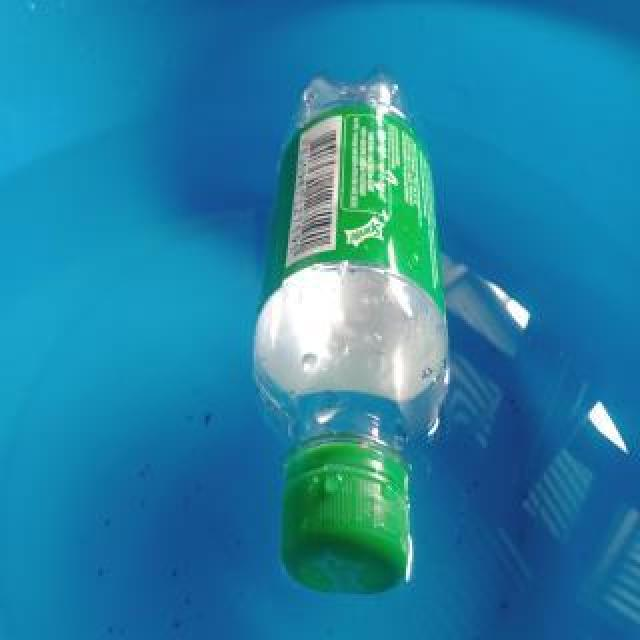bottle: (250, 58, 452, 598)
